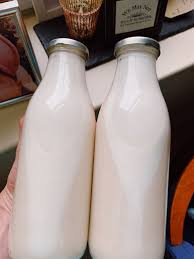milk: (11, 33, 86, 257), (99, 37, 175, 254)
